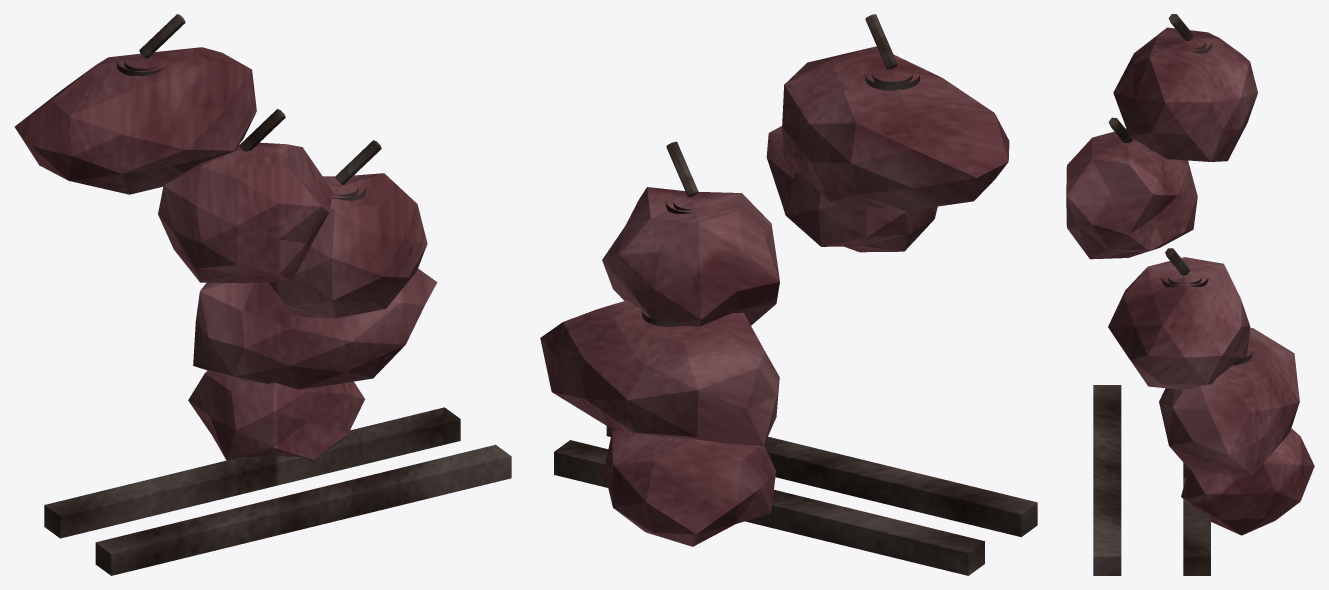
The model's file is 0821_sack_stack_21.glb.
3 views of the same model, side by side, from view 1: azimuth 30°, elevation 25°; view 2: azimuth 150°, elevation 25°; view 3: azimuth 270°, elevation 25° (orthographic). The views are drawn at different scales.
Visible parts, largest first — view 1: cloth, wood_dark; view 2: cloth, wood_dark; view 3: cloth, wood_dark.
Part boxes in pixels (x1,y1,x2,y2): cloth: (14, 47, 437, 460); wood_dark: (44, 14, 511, 575); cloth: (540, 46, 1009, 546); wood_dark: (554, 14, 1037, 575); cloth: (1066, 27, 1314, 535); wood_dark: (1093, 14, 1252, 575).
Bounding box in the file's own units: 2.04 × 2.33 × 1.16.
Materials: 2 (2 with a texture image).
